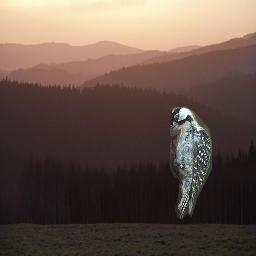Woodpecker: (170, 107, 212, 219)
